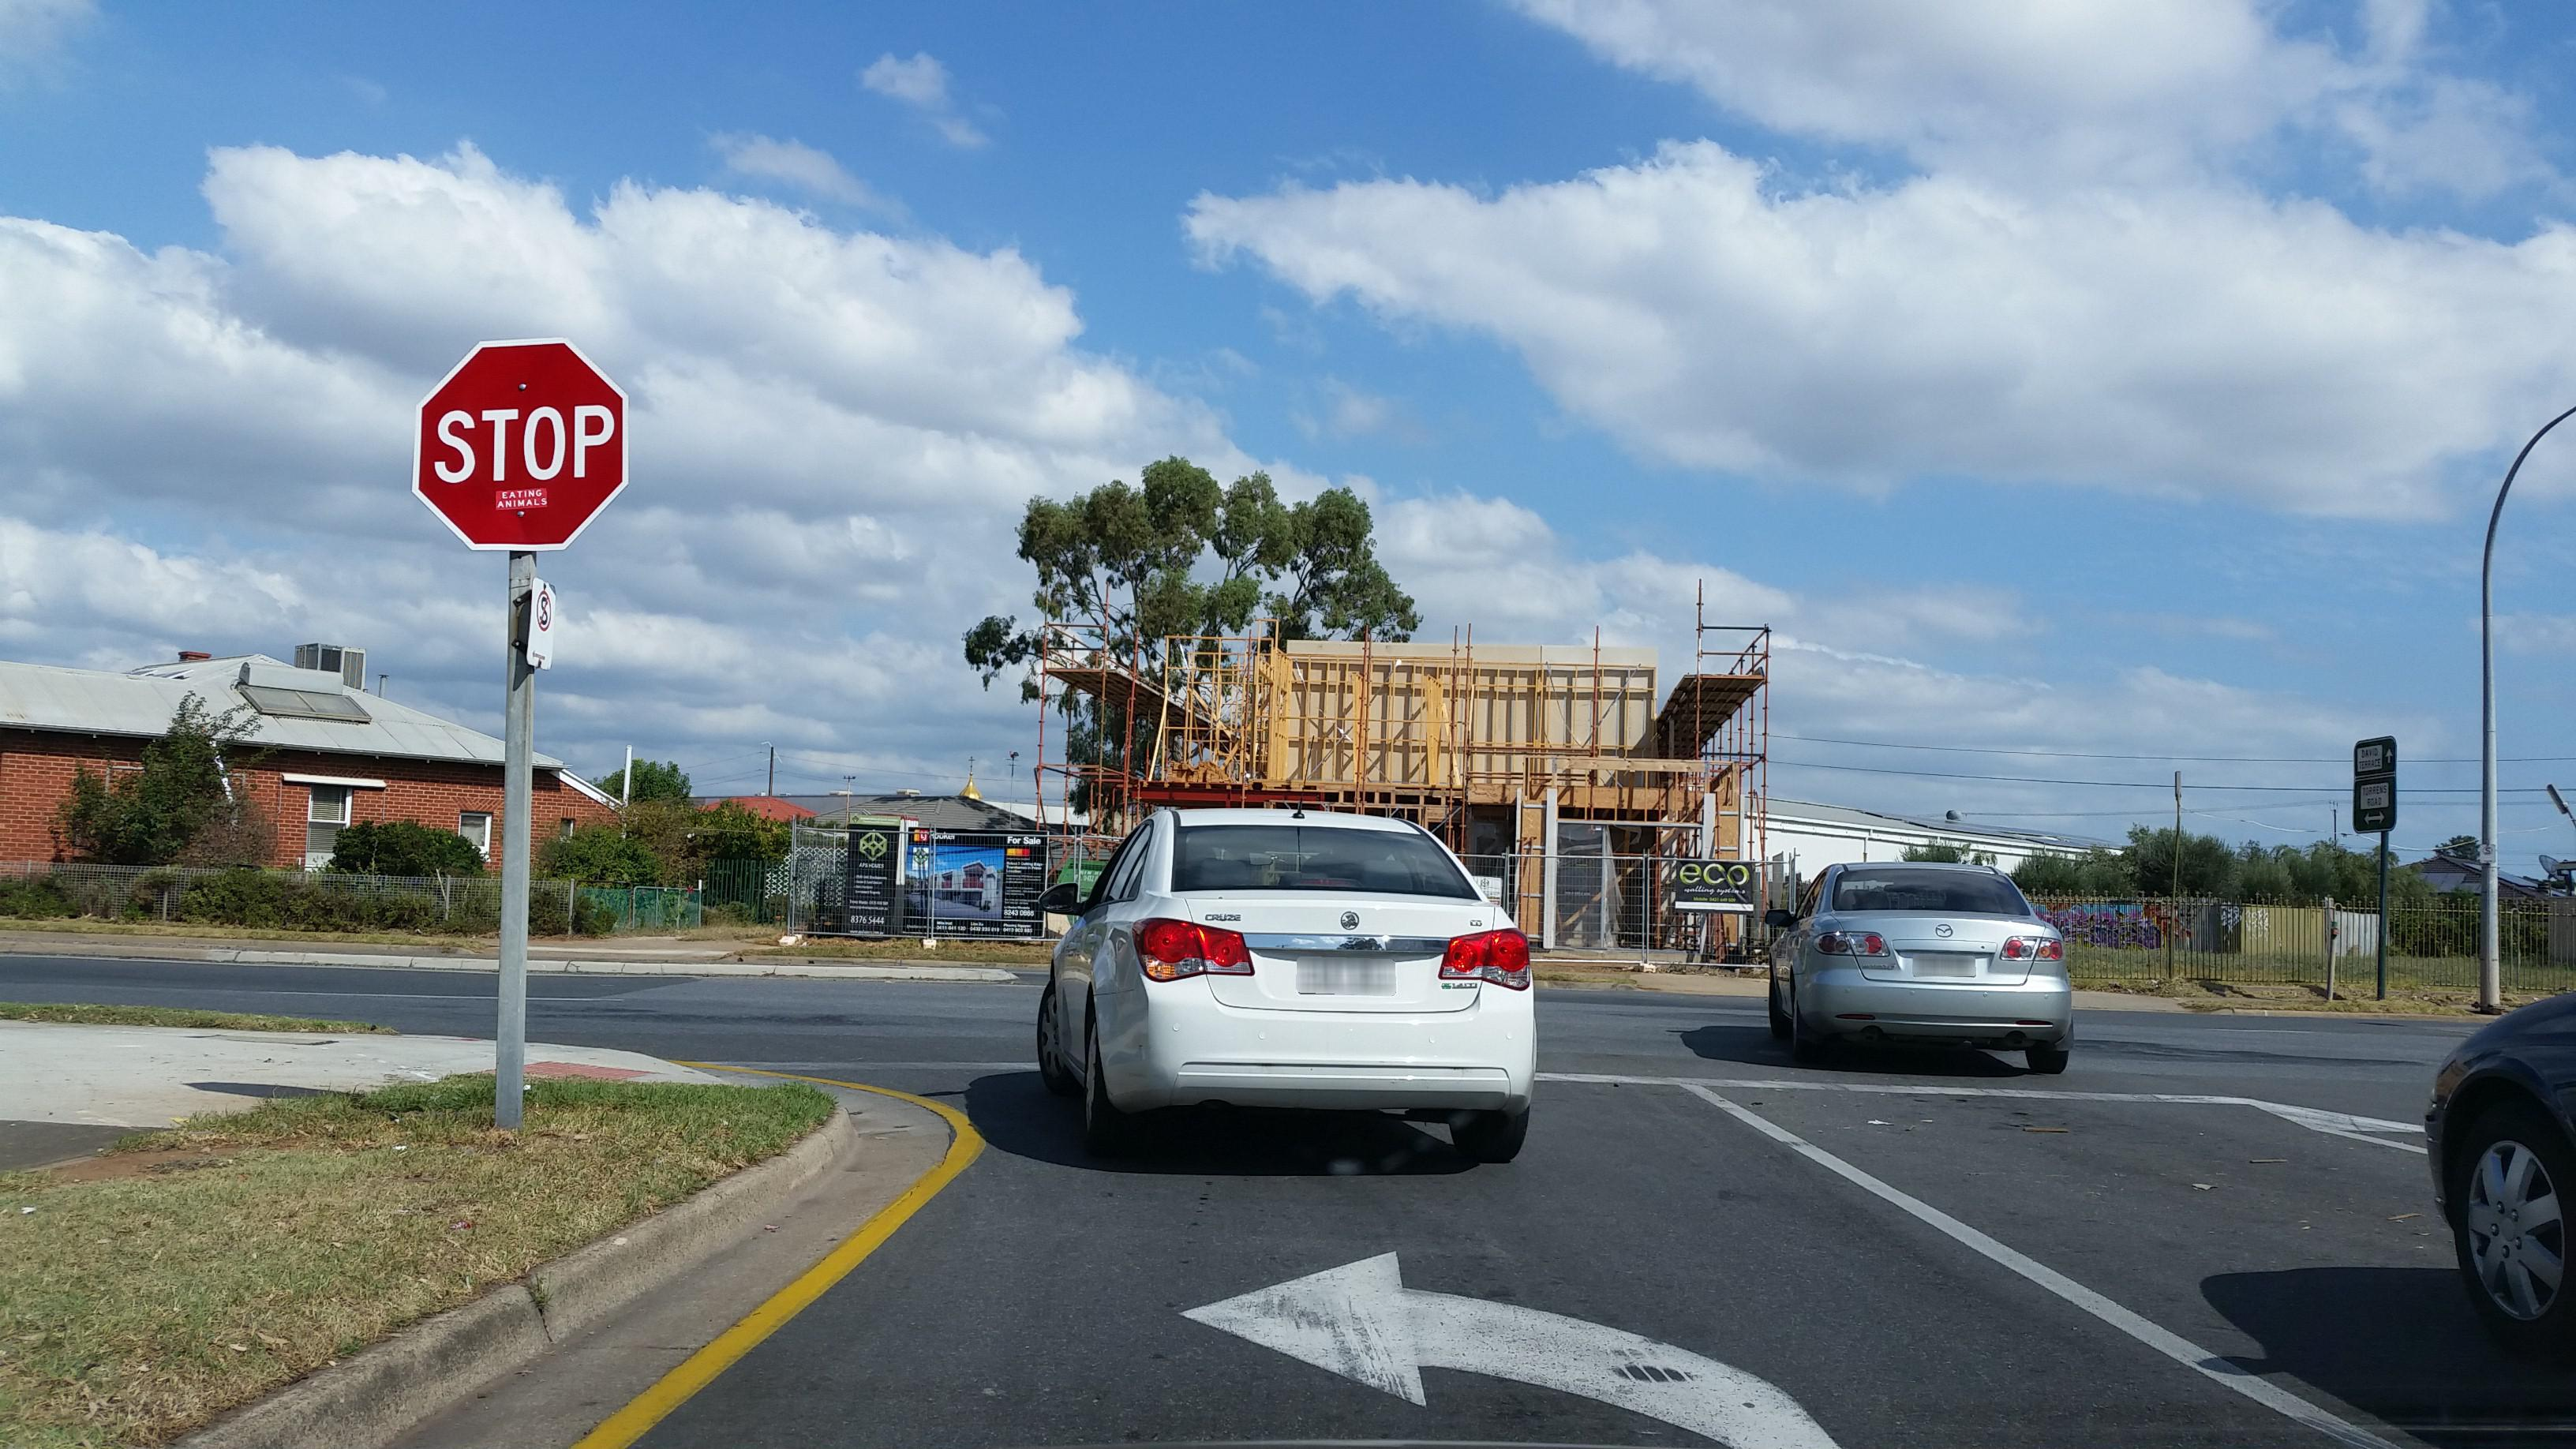vinyl banner: (1661, 833, 1775, 915)
